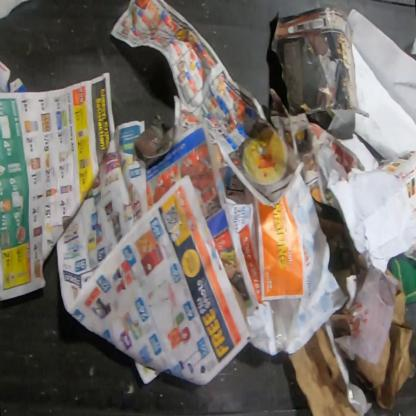cardboard: (330, 264, 413, 410), (288, 324, 353, 415)
rigid_plastic: (381, 278, 415, 415)
soft_plastic: (270, 298, 302, 354), (314, 144, 348, 189)
